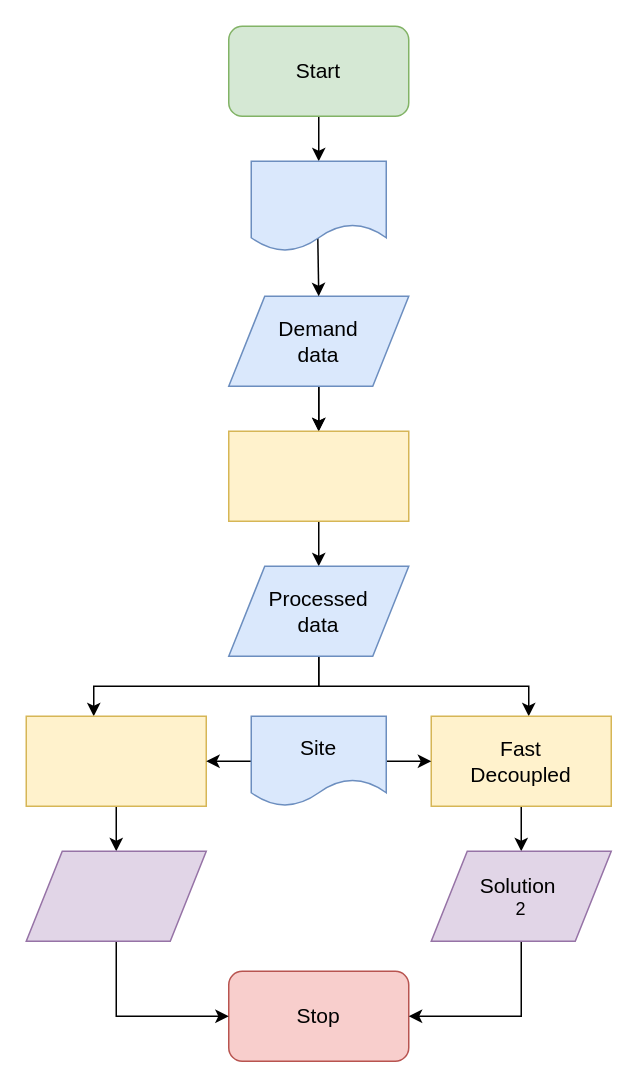
This 638x1088 diagram has some shape labels left out. Each missing label, with the centre of its shape:
"Complete Newton" goes at point (115, 760).
"Paper" goes at point (318, 205).
"Preprocessing" goes at point (318, 475).
"Solution 1" goes at point (115, 895).
